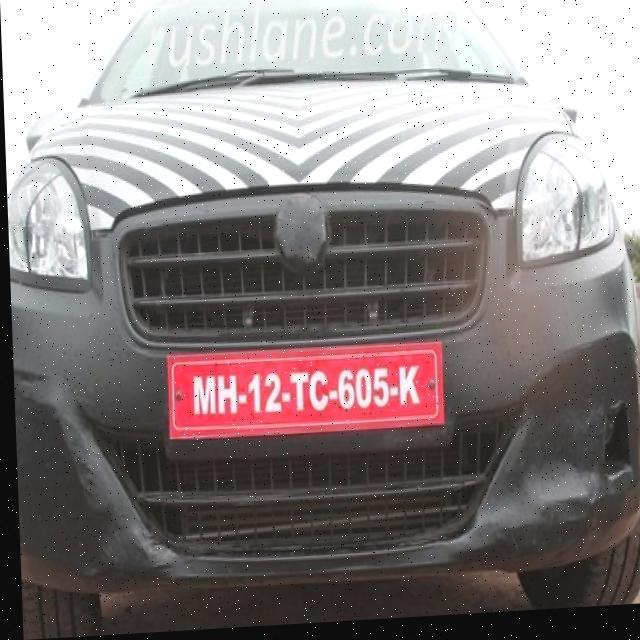plate: (161, 342, 444, 445)
